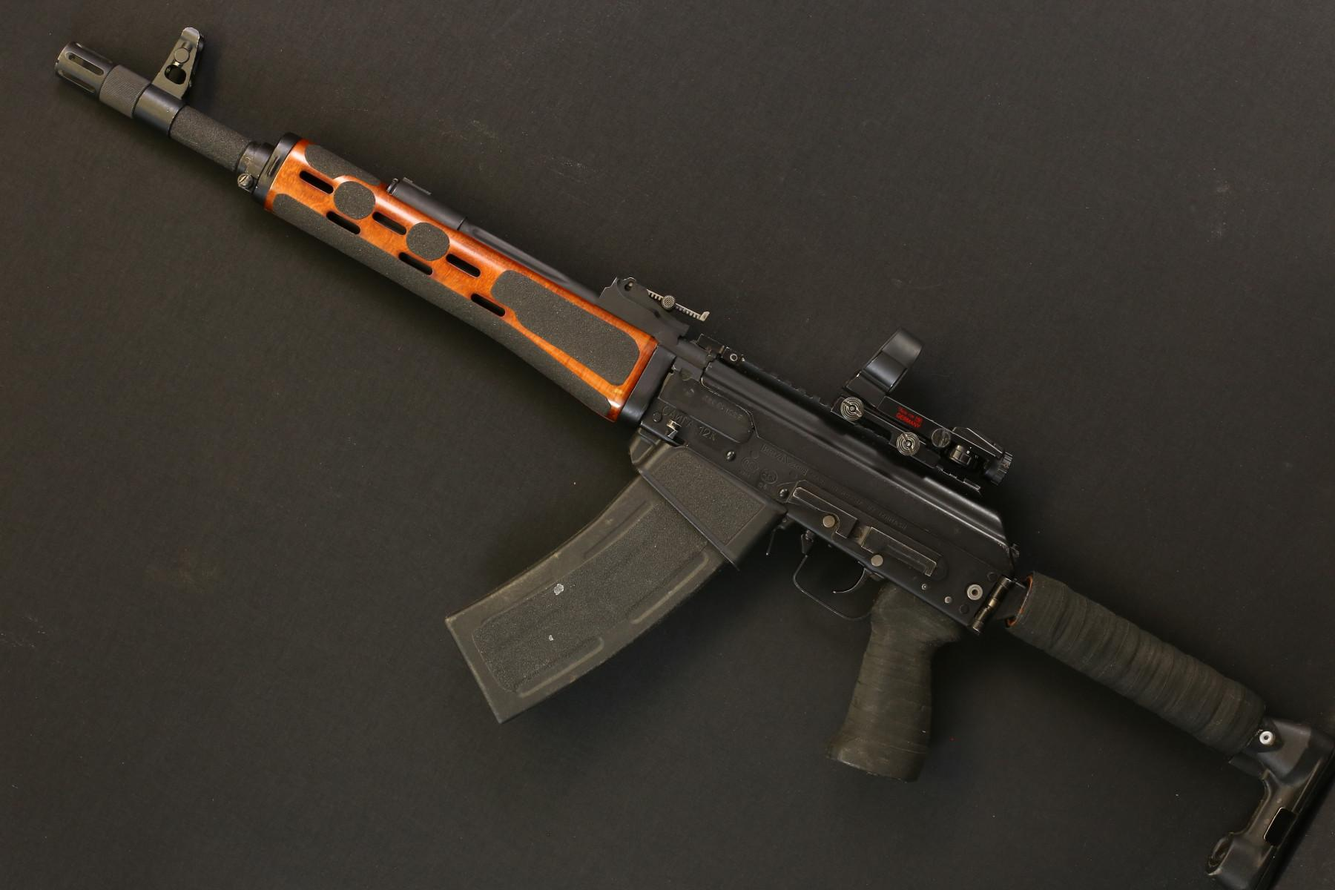larga: (51, 22, 1331, 890)
